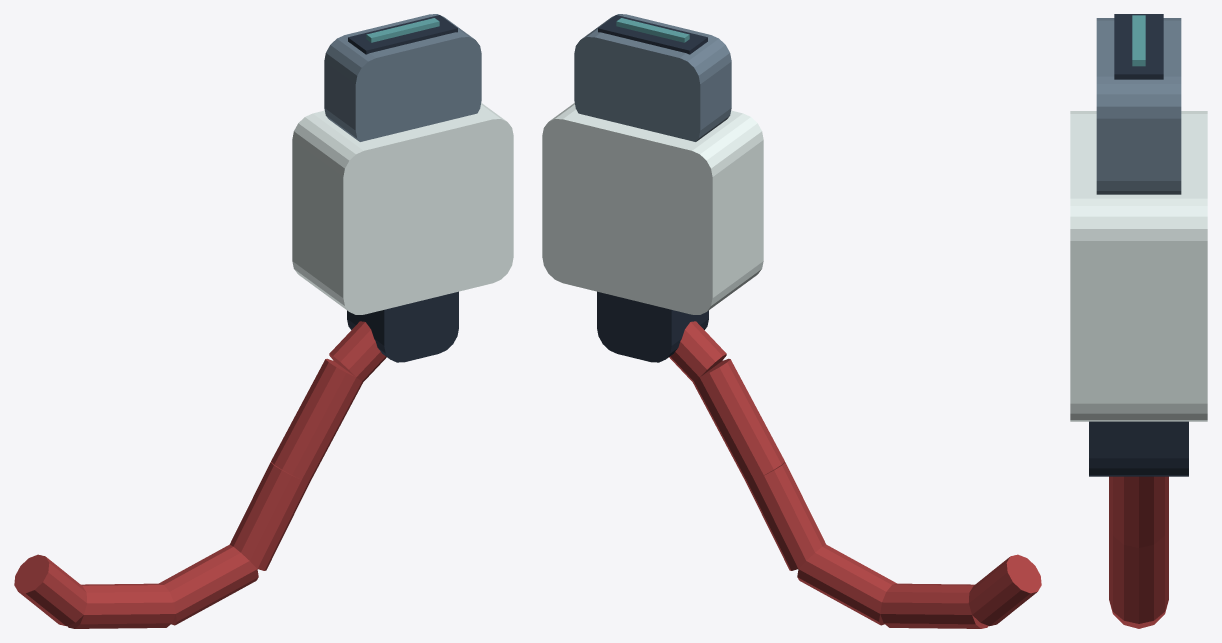
File: usbc.glb
3 renders of one model, left to right at view 1: azimuth 30°, elevation 25°; view 2: azimuth 150°, elevation 25°; view 3: azimuth 270°, elevation 25°, orthographic. The views are drawn at different scales.
Parts seen in each view (by area): view 1: plug sleeve, metal plug, rubber cable4, strain relief, rubber cable3, rubber cable1, rubber cable2, rubber cable0, rubber cable5, plug opening, contact tongue; view 2: plug sleeve, metal plug, rubber cable4, strain relief, rubber cable3, rubber cable1, rubber cable2, rubber cable0, rubber cable5, plug opening, contact tongue; view 3: plug sleeve, metal plug, strain relief, rubber cable3, rubber cable4, plug opening, contact tongue, rubber cable2.
Part boxes in pixels (bbox=[...]): plug sleeve: bbox=[292, 103, 513, 314]; metal plug: bbox=[324, 14, 481, 141]; rubber cable4: bbox=[271, 358, 362, 481]; strain relief: bbox=[347, 291, 458, 362]; rubber cable3: bbox=[230, 462, 309, 570]; rubber cable1: bbox=[67, 583, 175, 628]; rubber cable2: bbox=[159, 544, 258, 625]; rubber cable0: bbox=[14, 554, 87, 626]; rubber cable5: bbox=[329, 321, 386, 381]; plug opening: bbox=[348, 15, 457, 54]; contact tongue: bbox=[366, 18, 439, 42]; plug sleeve: bbox=[542, 103, 763, 314]; metal plug: bbox=[574, 14, 731, 141]; rubber cable4: bbox=[693, 358, 784, 481]; strain relief: bbox=[597, 291, 708, 362]; rubber cable3: bbox=[746, 462, 825, 570]; rubber cable1: bbox=[880, 583, 988, 628]; rubber cable2: bbox=[797, 544, 896, 625]; rubber cable0: bbox=[968, 554, 1041, 626]; rubber cable5: bbox=[669, 321, 726, 381]; plug opening: bbox=[598, 15, 707, 54]; contact tongue: bbox=[616, 18, 689, 42]; plug sleeve: bbox=[1070, 111, 1207, 421]; metal plug: bbox=[1096, 18, 1181, 194]; strain relief: bbox=[1089, 421, 1188, 476]; rubber cable3: bbox=[1109, 524, 1168, 623]; rubber cable4: bbox=[1109, 476, 1168, 547]; plug opening: bbox=[1114, 14, 1163, 79]; contact tongue: bbox=[1132, 15, 1145, 66]; rubber cable2: bbox=[1109, 602, 1168, 628].
Size of the model in its own units: 1.38 by 1.51 by 0.26.
